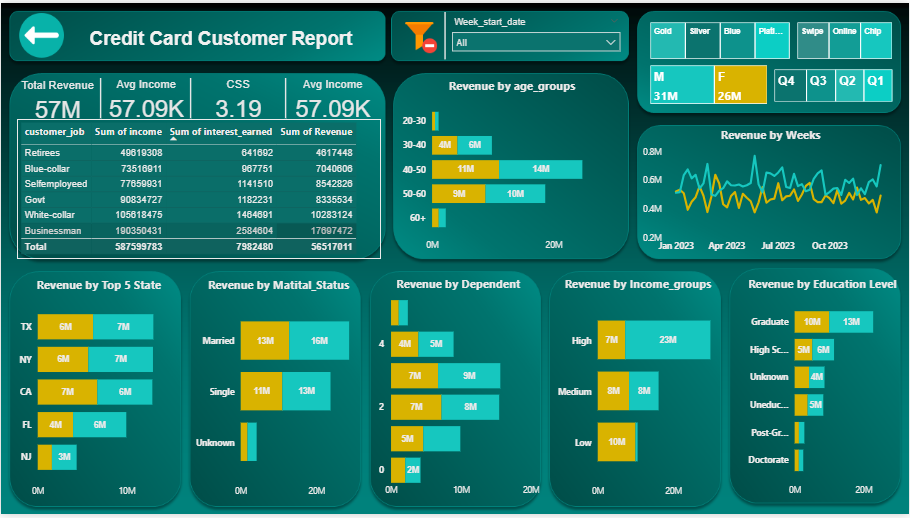

The page's visual inventory and layout, read from the dashboard file:
{"tool":"powerbi","page":{"name":"CC_Customer","canvas":[1280,720],"ordinal":2},"visuals":[{"type":"textbox","box":[95,29.8,430.9,53.9],"z":0},{"type":"tableEx","fields":{"Values":["public cust_detail.customer_job","Sum(public cust_detail.income)","Sum(public cc_detail.interest_earned)","Sum(public cc_detail.Revenue)"]},"box":[22.7,163,513.1,197],"z":1000},{"type":"barChart","title":"Revenue by Income_groups","fields":{"Category":["public cust_detail.income_group"],"Y":["Sum(public cc_detail.Revenue)"],"Series":["public cust_detail.gender"]},"box":[778.1,384.1,239.5,321.7],"z":2000},{"type":"card","title":"Total Revenue","fields":{"Values":["Sum(public cc_detail.Revenue)"]},"box":[19.8,107.7,120.5,66.6],"z":3000},{"type":"card","title":"Avg Income","fields":{"Values":["Avg(public cust_detail.income)"]},"box":[140.3,105.9,127.6,66.6],"z":4000},{"type":"card","title":"CSS","fields":{"Values":["Avg(public cust_detail.cust_satisfaction_score)"]},"box":[267.9,105.9,133.2,66.6],"z":5000},{"type":"card","title":"Avg Income","fields":{"Values":["Avg(public cust_detail.income)"]},"box":[401.1,106.3,131.8,66.6],"z":6000},{"type":"slicer","fields":{"Values":["public cc_detail.week_start_date"]},"box":[625,14.2,256.5,63.8],"z":7000},{"type":"treemap","fields":{"Group":["public cc_detail.qtr"],"Values":["Avg(public cc_detail.client_num)"]},"box":[1084.3,89.3,175.7,55.3],"z":8000},{"type":"treemap","fields":{"Group":["public cc_detail.card_category"],"Values":["Avg(public cc_detail.client_num)"]},"box":[909.9,22.7,205.5,60.9],"z":9000},{"type":"shape","box":[375.6,106.3,49.6,56.7],"z":10000},{"type":"shape","box":[114.8,106.3,49.6,56.7],"z":11000},{"type":"shape","box":[242.4,106.3,49.6,56.7],"z":12000},{"type":"shape","box":[612.3,12.8,25.5,66.6],"z":13000},{"type":"image","box":[559.8,12.8,59.5,66.6],"z":14000},{"type":"lineChart","title":"Revenue by Weeks","fields":{"Y":["Sum(public cc_detail.Revenue)"],"Series":["public cust_detail.gender"],"Category":["public cc_detail.week_start_date.Variation.Date Hierarchy.Year","public cc_detail.week_start_date.Variation.Date Hierarchy.Month","public cc_detail.week_start_date.Variation.Date Hierarchy.Day"]},"box":[898.6,174.3,371.3,185.7],"z":15000},{"type":"barChart","title":"Revenue by Matital_Status","fields":{"Category":["public cust_detail.marital_status"],"Y":["Sum(public cc_detail.Revenue)"],"Series":["public cust_detail.gender"]},"box":[267.8,386.2,247.1,319.6],"z":16000},{"type":"barChart","title":"Revenue by Dependent","fields":{"Category":["public cust_detail.dependent_count"],"Y":["Sum(public cc_detail.Revenue)"],"Series":["public cust_detail.gender"]},"box":[525.8,384.1,238.1,320.3],"z":17000},{"type":"barChart","title":"Revenue by Education Level","fields":{"Category":["public cust_detail.education_level"],"Y":["Sum(public cc_detail.Revenue)"],"Series":["public cust_detail.gender"]},"box":[1033.2,384.1,246.6,320.3],"z":18000},{"type":"barChart","title":"Revenue by Top 5 State","fields":{"Category":["public cust_detail.state_cd"],"Y":["Sum(public cc_detail.Revenue)"],"Series":["public cust_detail.gender"]},"box":[19.8,385.5,236.7,320.3],"z":19000},{"type":"barChart","title":"Revenue by age_groups","fields":{"Category":["public cust_detail.age_group"],"Y":["Sum(public cc_detail.Revenue)"],"Series":["public cust_detail.gender"]},"box":[559.8,106.3,321.7,253.7],"z":20000},{"type":"treemap","fields":{"Group":["public cust_detail.gender"],"Values":["Sum(public cc_detail.Revenue)"]},"box":[909.9,83.6,174.3,63.8],"z":21000},{"type":"treemap","fields":{"Group":["public cc_detail.use_chip"],"Values":["Avg(public cc_detail.client_num)"]},"box":[1116.9,22.7,143.1,60.9],"z":22000},{"type":"image","box":[19.8,7.1,75.1,78],"z":23000}]}

Visuals, with their boxes in screenshot pixels (x1, y1, x2, y2), scaled from the page's 1280x720 canvas onto the 910x518 screenshot:
textbox: (68,21,374,60)
tableEx - public cust_detail.customer_job x Sum(public cust_detail.income): (16,117,381,259)
"Revenue by Income_groups" barChart: (553,276,723,508)
"Total Revenue" card: (14,77,100,125)
"Avg Income" card: (100,76,190,124)
"CSS" card: (190,76,285,124)
"Avg Income" card: (285,76,379,124)
slicer - public cc_detail.week_start_date: (444,10,627,56)
treemap - public cc_detail.qtr x Avg(public cc_detail.client_num): (771,64,896,104)
treemap - public cc_detail.card_category x Avg(public cc_detail.client_num): (647,16,793,60)
shape: (267,76,302,117)
shape: (82,76,117,117)
shape: (172,76,208,117)
shape: (435,9,453,57)
image: (398,9,440,57)
"Revenue by Weeks" lineChart: (639,125,903,259)
"Revenue by Matital_Status" barChart: (190,278,366,508)
"Revenue by Dependent" barChart: (374,276,543,507)
"Revenue by Education Level" barChart: (735,276,909,507)
"Revenue by Top 5 State" barChart: (14,277,182,508)
"Revenue by age_groups" barChart: (398,76,627,259)
treemap - public cust_detail.gender x Sum(public cc_detail.Revenue): (647,60,771,106)
treemap - public cc_detail.use_chip x Avg(public cc_detail.client_num): (794,16,896,60)
image: (14,5,67,61)
